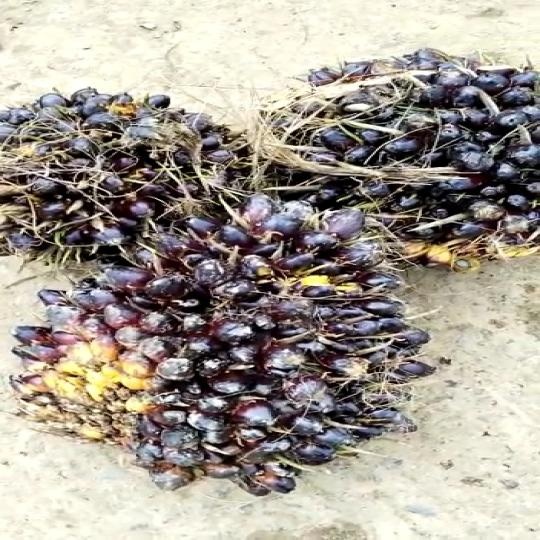mentah: (15, 194, 424, 505), (262, 36, 540, 271), (0, 83, 285, 267)
